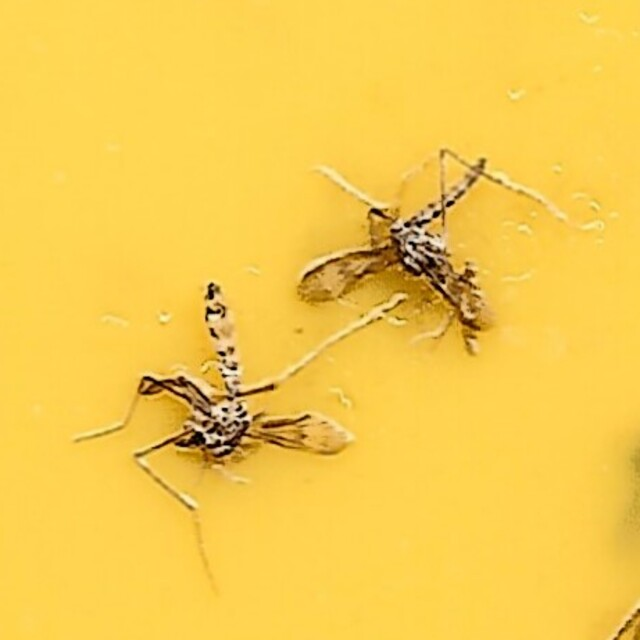Nematocera: (139, 282, 353, 483), (296, 157, 501, 344)
